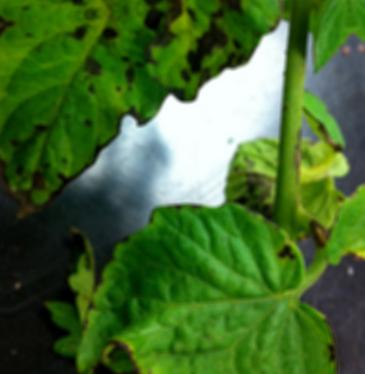Tomato leaf bacterial spot: (0, 0, 308, 222), (26, 177, 332, 374)
